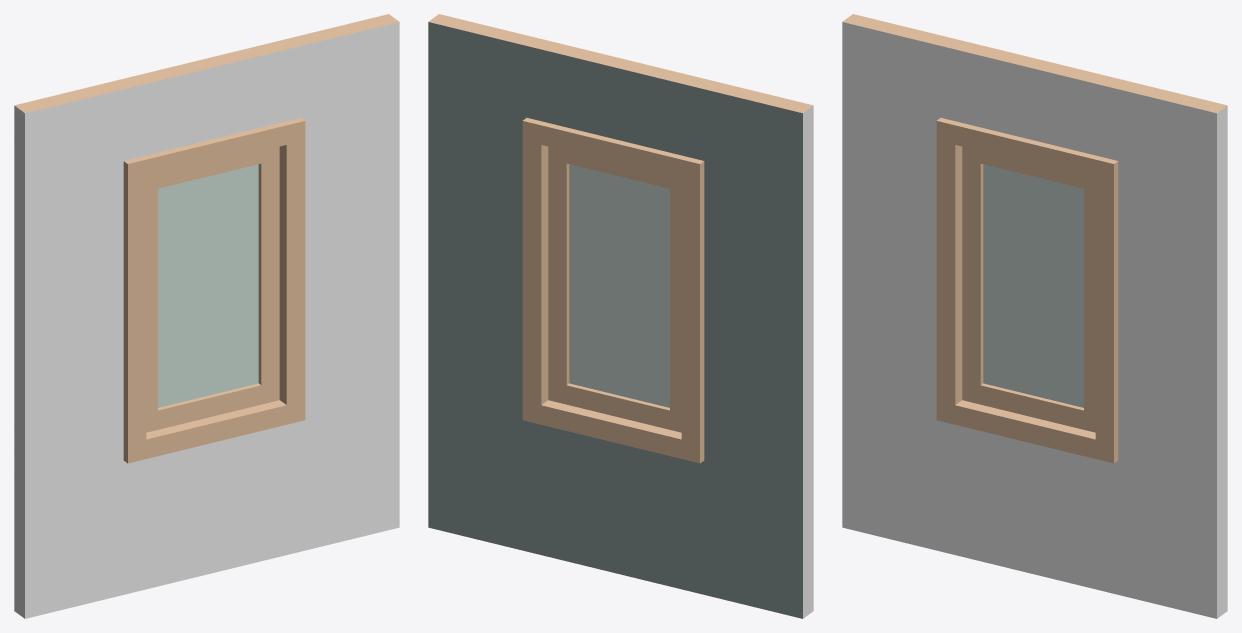
File: wallWindow.glb
3 views of the same model, side by side, from view 1: azimuth 30°, elevation 25°; view 2: azimuth 150°, elevation 25°; view 3: azimuth 330°, elevation 25° (orthographic).
Visible parts, largest first — view 1: wallWindow(Clone), window; view 2: wallWindow(Clone), window; view 3: wallWindow(Clone), window.
Part boxes in pixels (x1,y1,x2,y2): wallWindow(Clone): (14, 14, 399, 618); window: (146, 146, 279, 432); wallWindow(Clone): (428, 14, 813, 618); window: (548, 146, 681, 432); wallWindow(Clone): (842, 14, 1227, 618); window: (962, 146, 1095, 432).
Bounding box in the file's own units: 2.03 × 2.62 × 0.1809.
4 materials, 4 textured.
